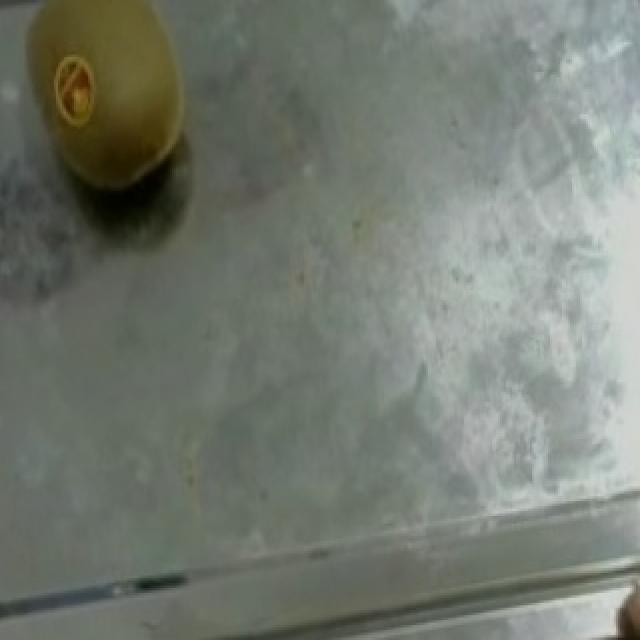Fruit: (4, 0, 224, 218)
